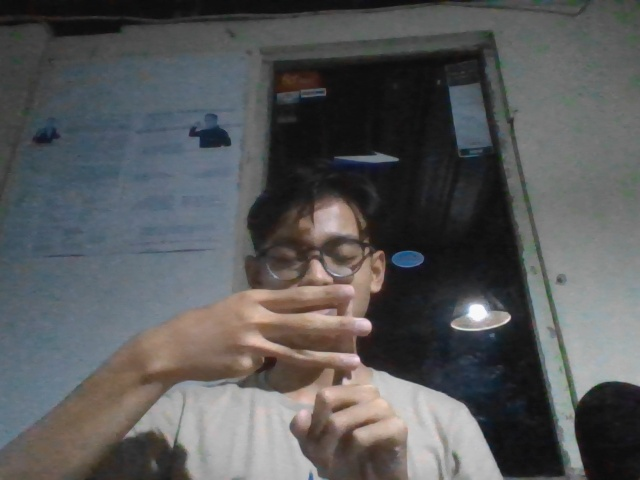B: (149, 272, 427, 478)
